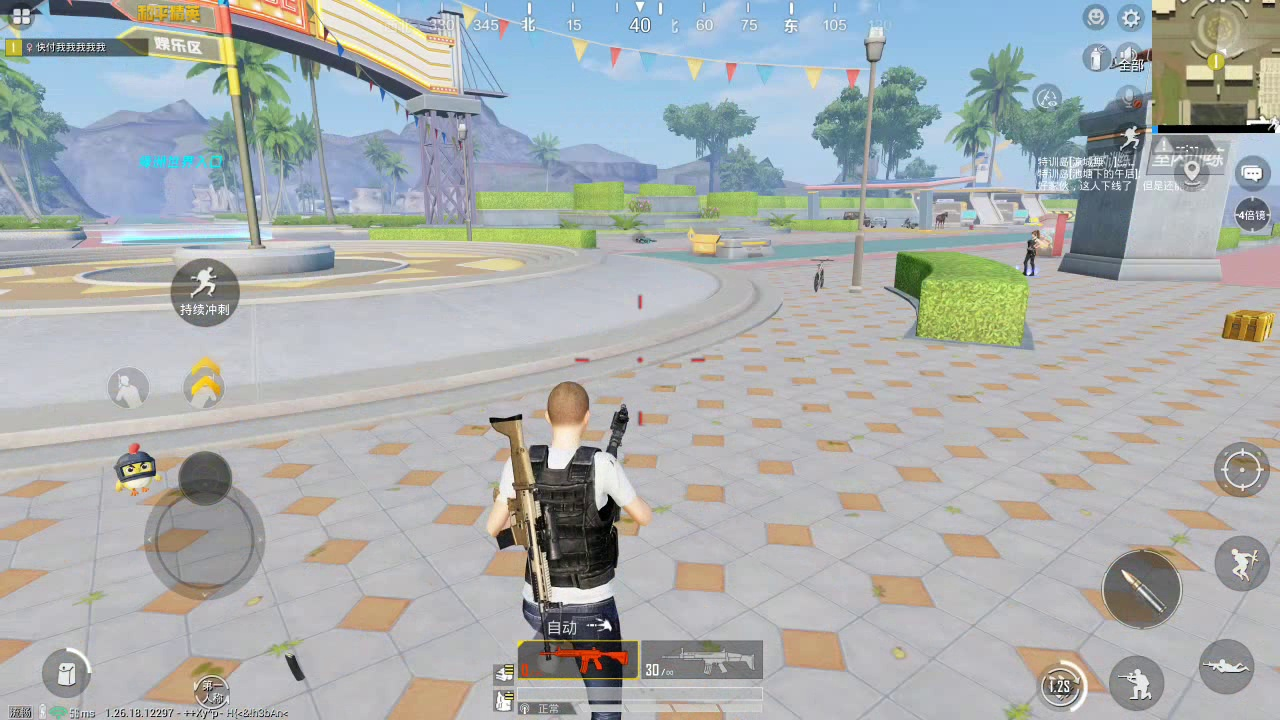enemy: (1023, 231, 1041, 278)
